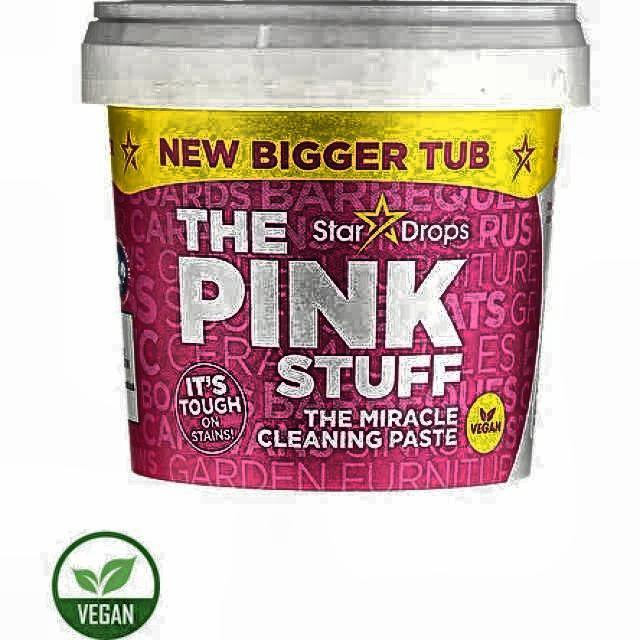plastic: (82, 0, 587, 496)
